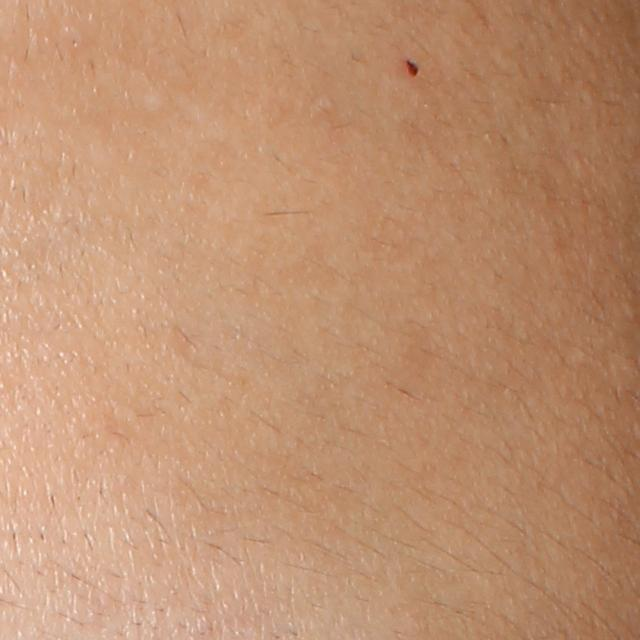other: (402, 56, 422, 81)
